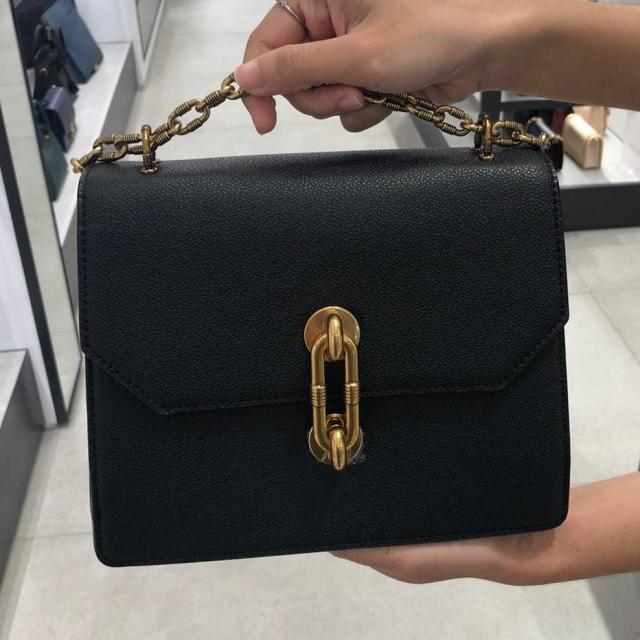Handbag: (73, 150, 574, 566)
